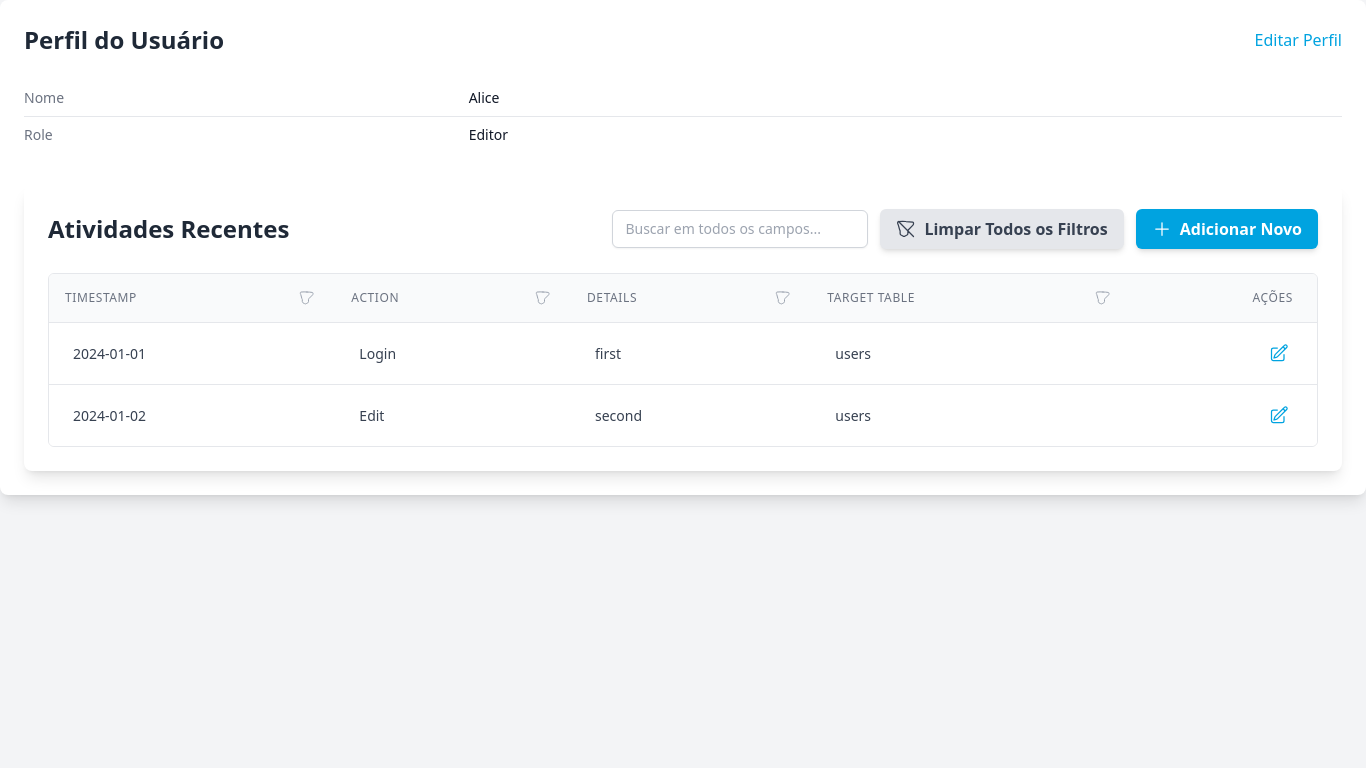
Test: allows editing profile name via modal
Click the button "Editar Perfil": point(1298, 40) [1254,28,1342,52]
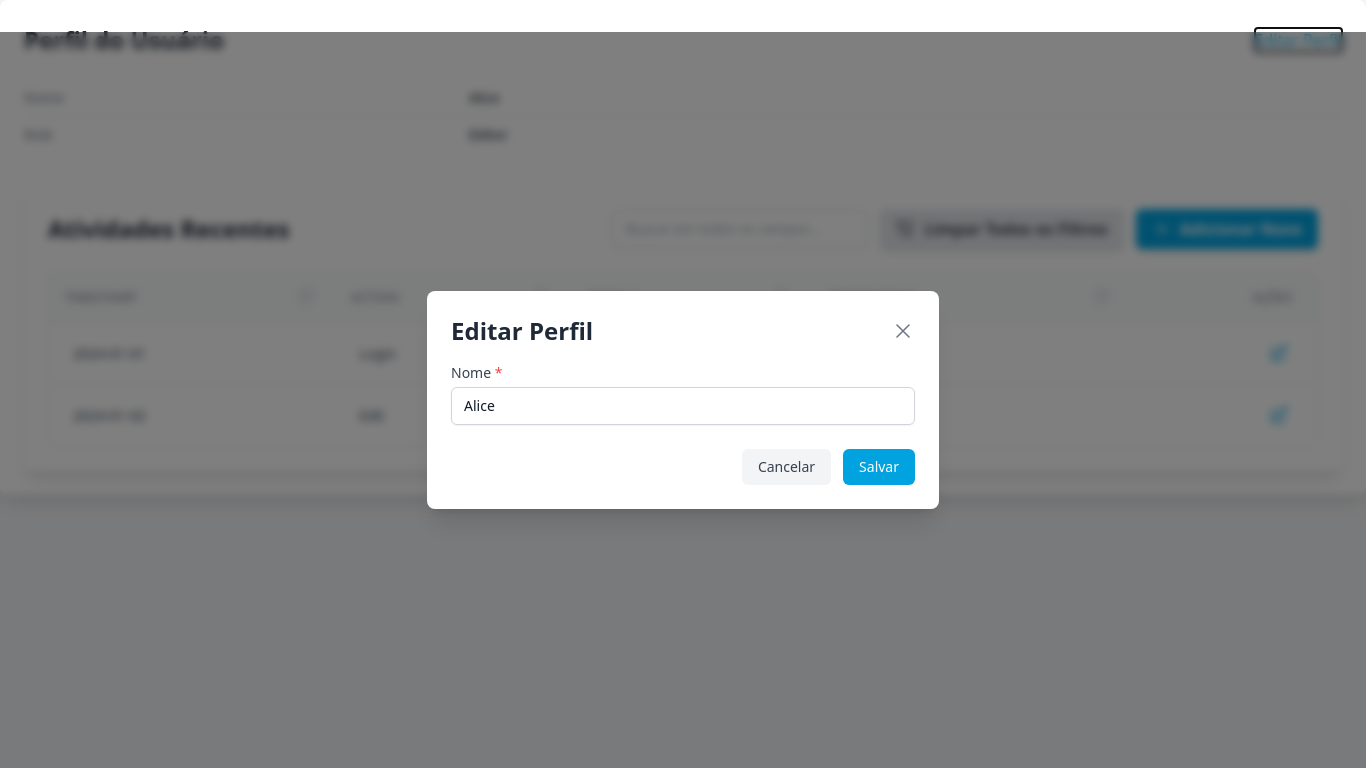
Replace the text in the field labelled "Nome *" with "Bob": point(683, 406) [451,387,915,425]
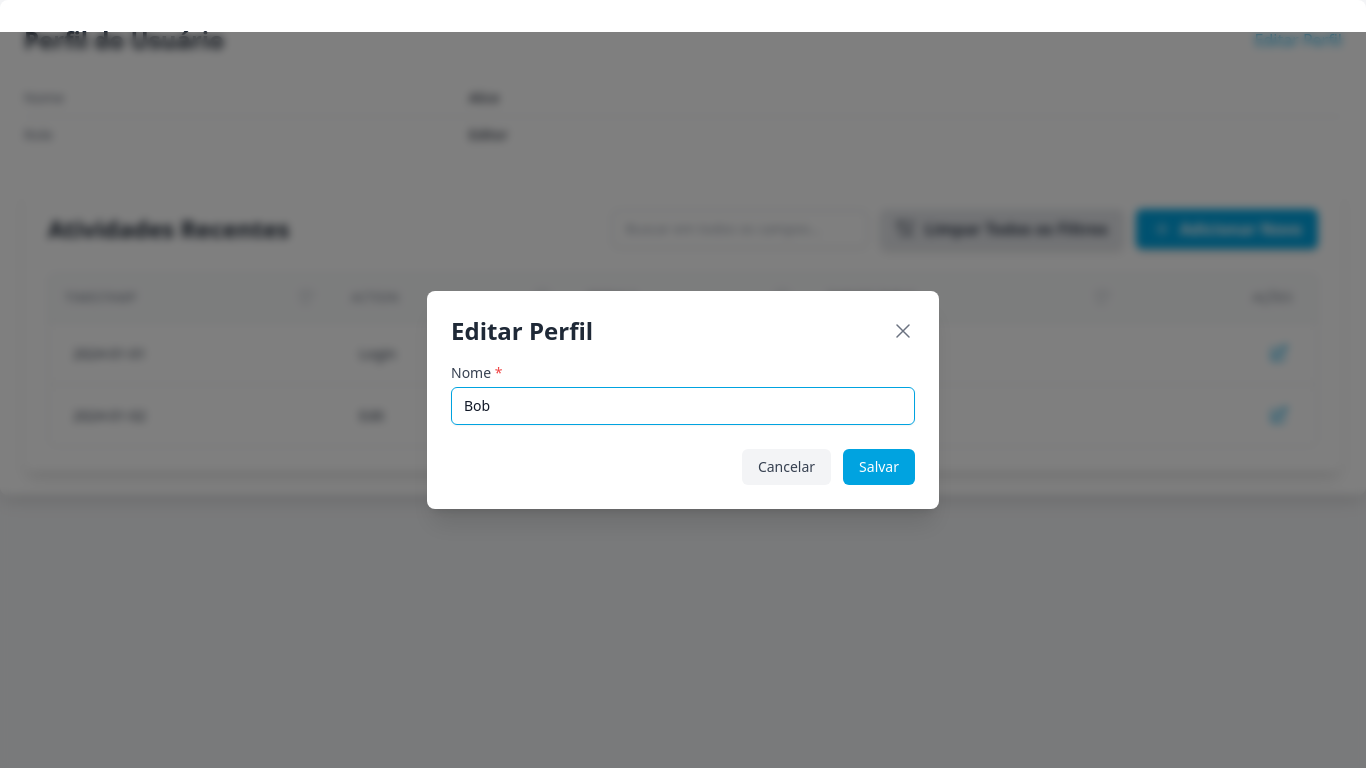
Click the button "Salvar": point(879, 467) [843,449,915,485]
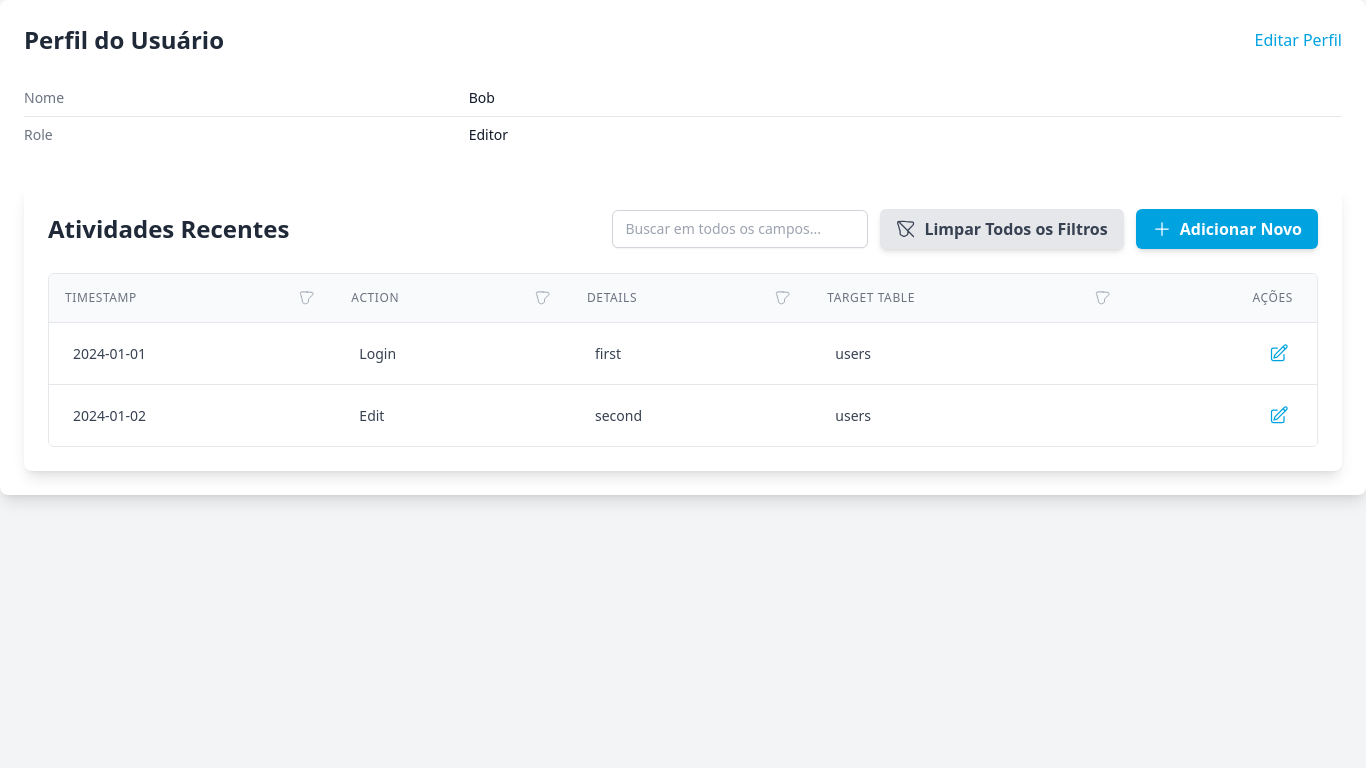
Now the text "Bob" is shown, box [469,88,495,107]
